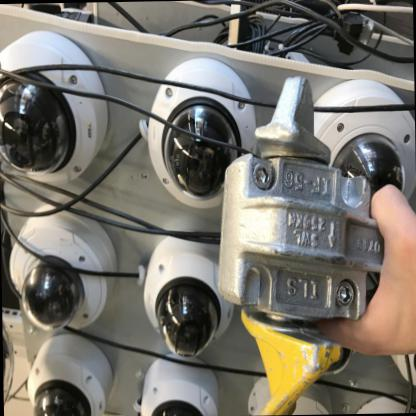Twistlock: (205, 64, 392, 410)
